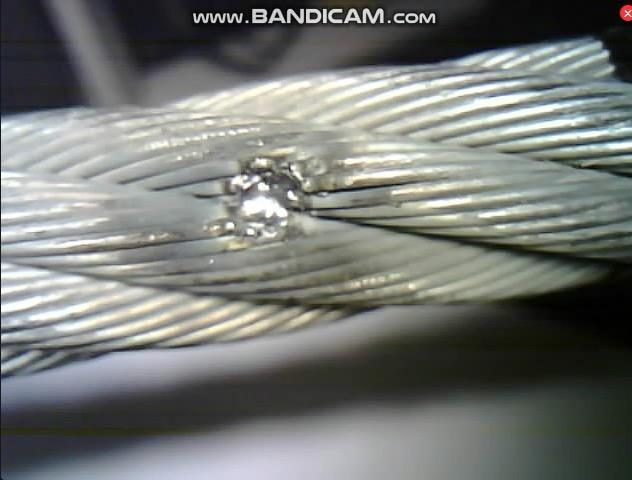thunderbolt: (189, 145, 346, 270)
